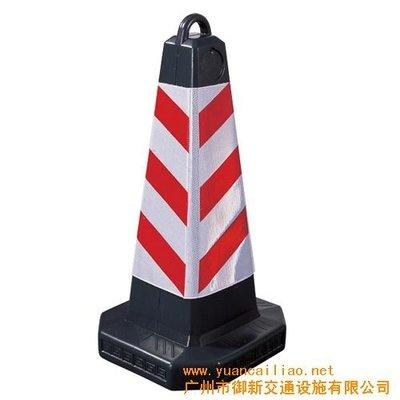cone_barrel: (97, 24, 287, 379)
